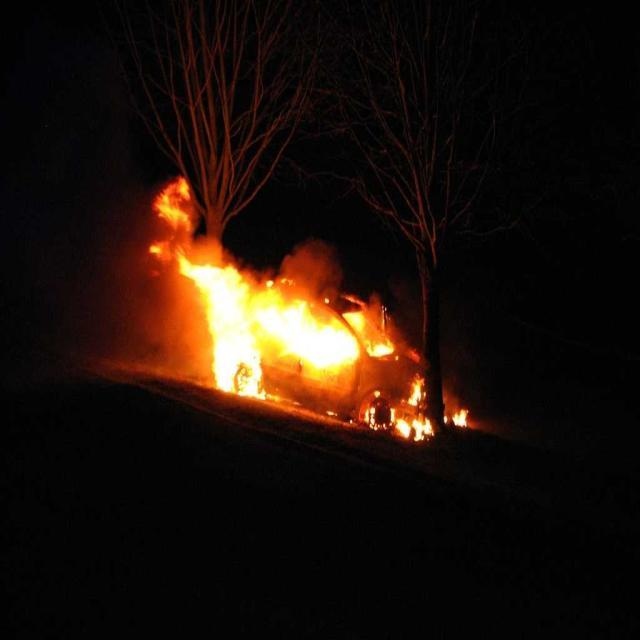Fire: (272, 313, 342, 362), (219, 283, 248, 379)
